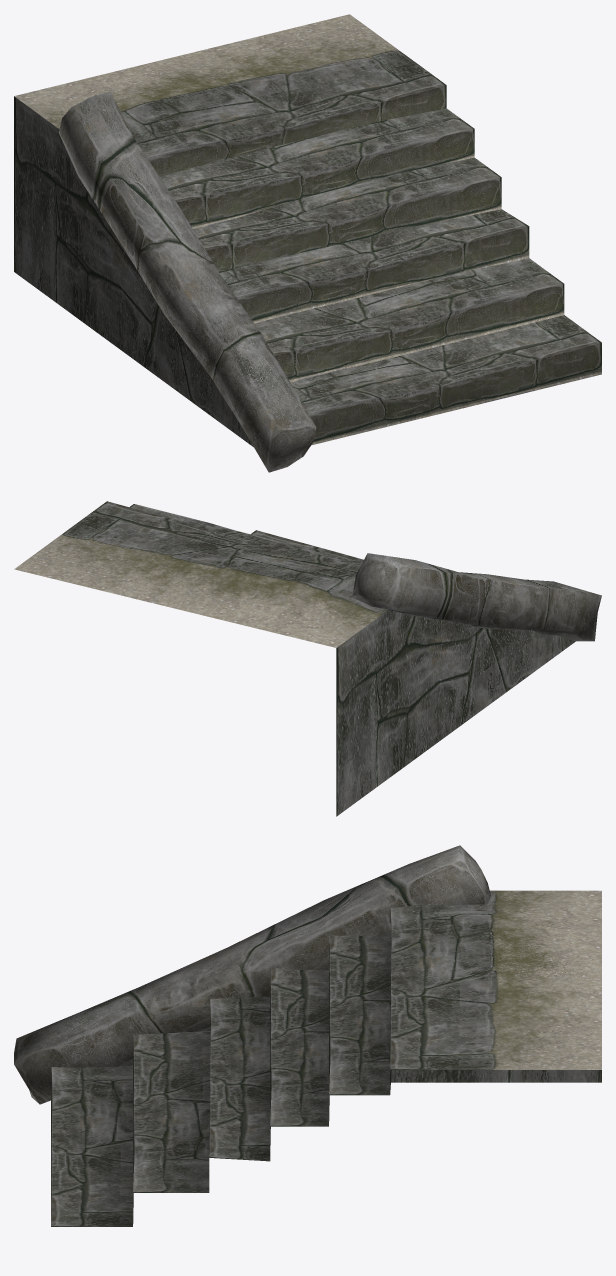
File: Steps C.fbx
The picture shows the model from 3 angles, top to bottom: view 1: azimuth 30°, elevation 25°; view 2: azimuth 150°, elevation 25°; view 3: azimuth 270°, elevation 25°; orthographic projection. The views are drawn at different scales.
Visible parts, largest first — view 1: Steps C; view 2: Steps C; view 3: Steps C.
Part boxes in pixels (x1,y1,x2,y2): Steps C: (14,14,601,472); Steps C: (14,501,601,816); Steps C: (14,845,601,1226).
Size of the model in its own units: 4.21 by 2.59 by 5.55.
